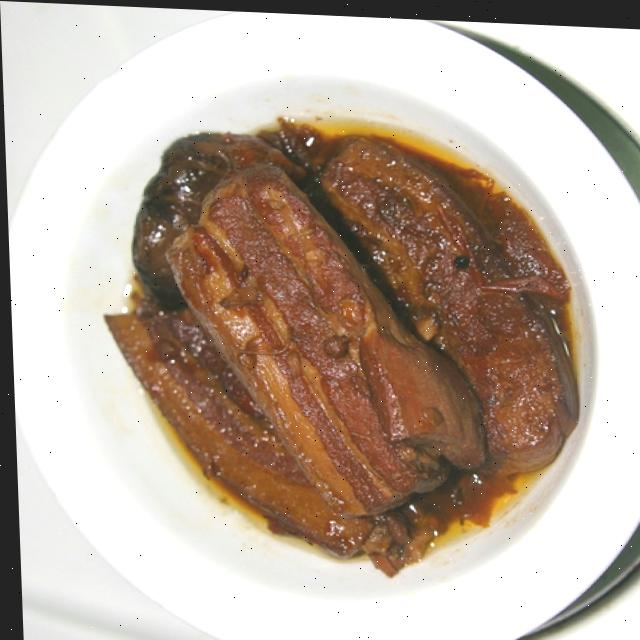牛肉菜式: (6, 4, 640, 640)
